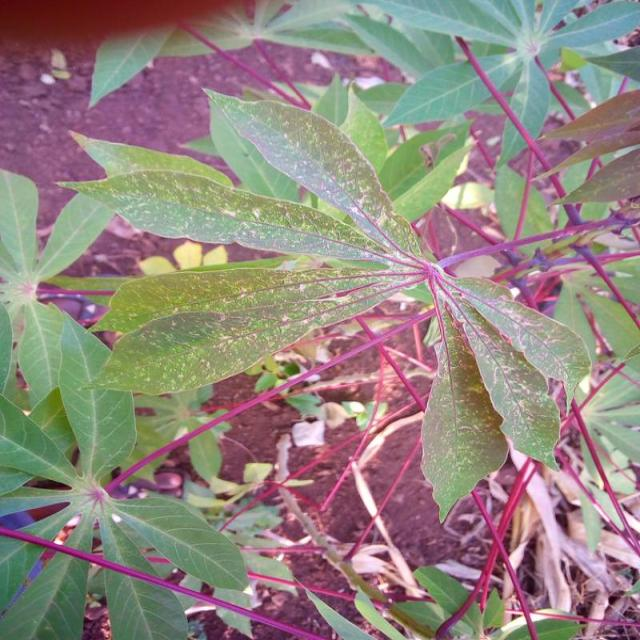cassava leaf: (53, 82, 592, 524)
